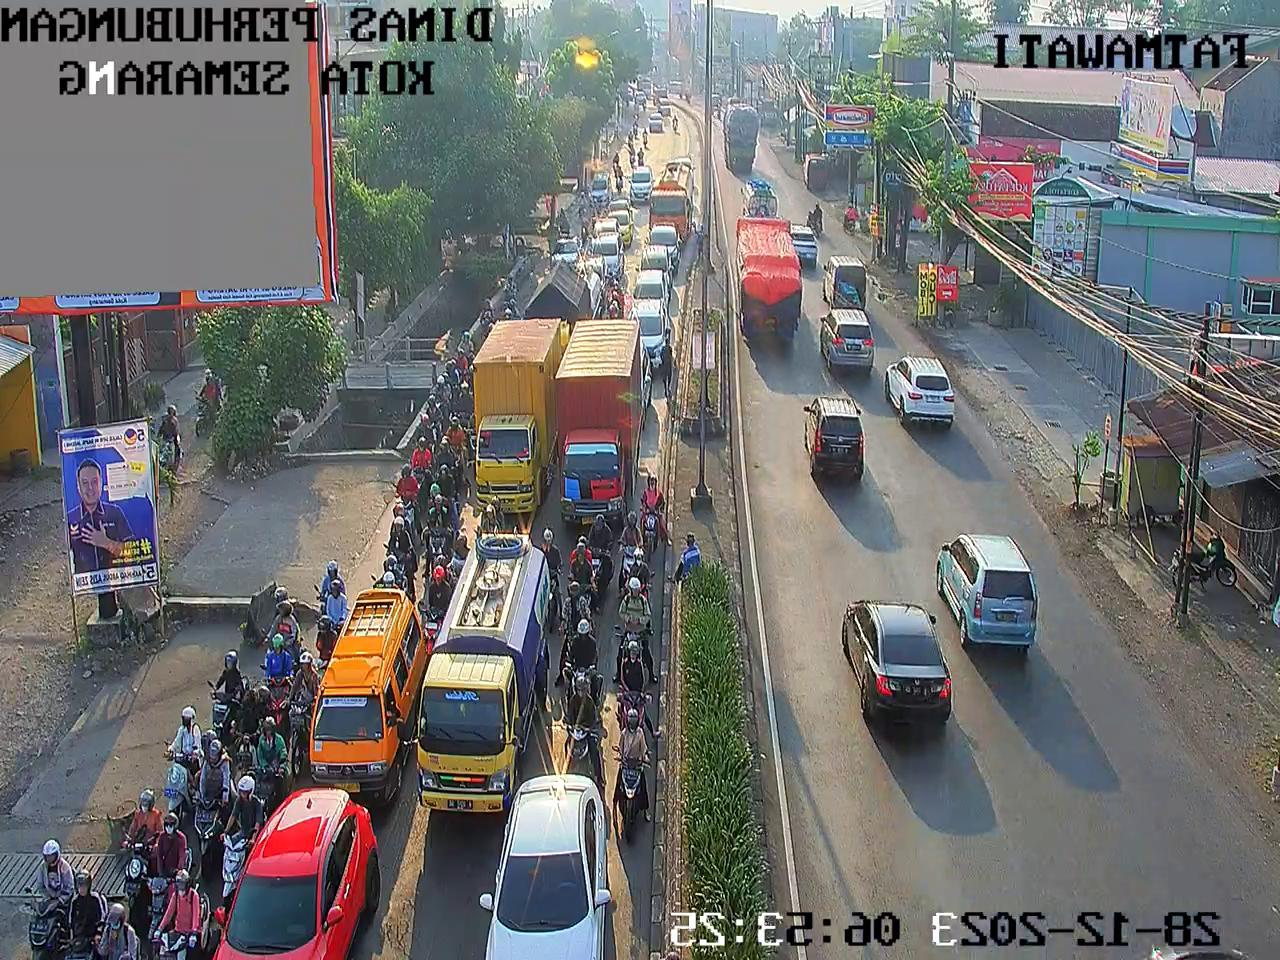car: (202, 789, 371, 960), (323, 572, 426, 786), (496, 770, 600, 960), (619, 301, 672, 363), (626, 248, 670, 288), (589, 235, 632, 268), (637, 272, 674, 303), (647, 226, 681, 256), (625, 166, 651, 204), (583, 251, 610, 286), (666, 148, 697, 178), (552, 238, 583, 264), (600, 211, 631, 235), (589, 219, 617, 241), (587, 177, 612, 202), (608, 201, 632, 221), (655, 96, 677, 115), (631, 88, 648, 110), (650, 112, 663, 135), (618, 88, 632, 102)
motorcycle: (214, 785, 270, 937), (9, 839, 77, 946), (133, 814, 207, 906), (105, 795, 158, 908), (177, 754, 236, 847), (143, 897, 224, 960), (555, 673, 606, 770), (214, 688, 279, 758), (614, 707, 652, 823), (155, 706, 212, 785), (190, 650, 250, 725), (286, 649, 331, 735), (618, 574, 660, 662), (415, 553, 458, 635), (59, 865, 99, 953), (537, 629, 599, 684), (250, 738, 296, 809), (250, 594, 298, 661), (89, 899, 138, 960), (635, 465, 665, 562), (611, 643, 659, 702), (559, 530, 599, 599), (313, 566, 347, 644), (384, 506, 424, 571), (380, 462, 427, 515), (557, 568, 591, 643), (266, 635, 294, 724), (537, 518, 567, 598), (614, 543, 649, 602), (609, 518, 650, 568), (573, 517, 616, 565), (436, 530, 475, 580), (430, 481, 456, 551), (427, 462, 469, 502), (396, 439, 432, 481), (440, 412, 470, 461), (477, 509, 509, 550), (430, 450, 461, 486), (451, 387, 479, 424), (496, 276, 519, 320), (372, 556, 399, 592), (424, 387, 446, 431), (414, 414, 438, 448), (599, 298, 628, 325), (480, 290, 498, 332), (439, 356, 461, 391), (602, 275, 629, 303), (447, 334, 474, 358), (426, 374, 450, 400), (550, 204, 568, 236), (604, 148, 622, 177), (443, 347, 471, 366), (574, 209, 592, 238), (465, 359, 482, 388), (584, 205, 610, 222), (585, 207, 605, 229), (611, 164, 629, 188), (617, 130, 637, 150), (567, 194, 588, 214), (667, 112, 683, 135), (634, 145, 650, 166), (627, 144, 638, 166), (627, 118, 641, 134), (628, 107, 645, 120), (638, 96, 648, 115), (641, 127, 652, 144)
truck: (409, 530, 566, 806), (468, 318, 564, 517), (553, 319, 637, 539), (529, 268, 584, 326), (650, 165, 693, 235), (568, 265, 601, 299), (637, 75, 652, 96), (653, 85, 667, 105)
